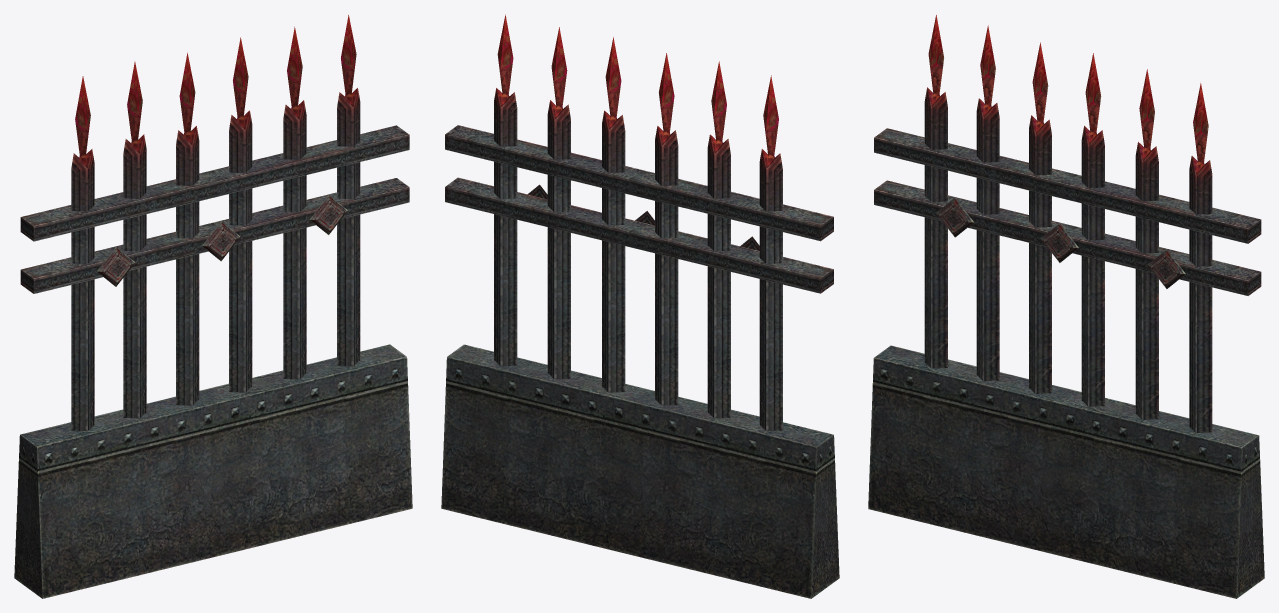
Rendered from flame_fence_01.glb.
3 views of the same model, side by side, from view 1: azimuth 30°, elevation 25°; view 2: azimuth 150°, elevation 25°; view 3: azimuth 330°, elevation 25° (orthographic).
Visible parts, largest first — view 1: flame_fence_01; view 2: flame_fence_01; view 3: flame_fence_01.
Boxes of the visible parts, x1,y1,x2,y2 form: flame_fence_01: [14, 15, 412, 598]; flame_fence_01: [441, 14, 839, 598]; flame_fence_01: [868, 15, 1264, 598].
Bounding box in the file's own units: 8.35 × 10.65 × 1.09.
1 material, 1 textured.
